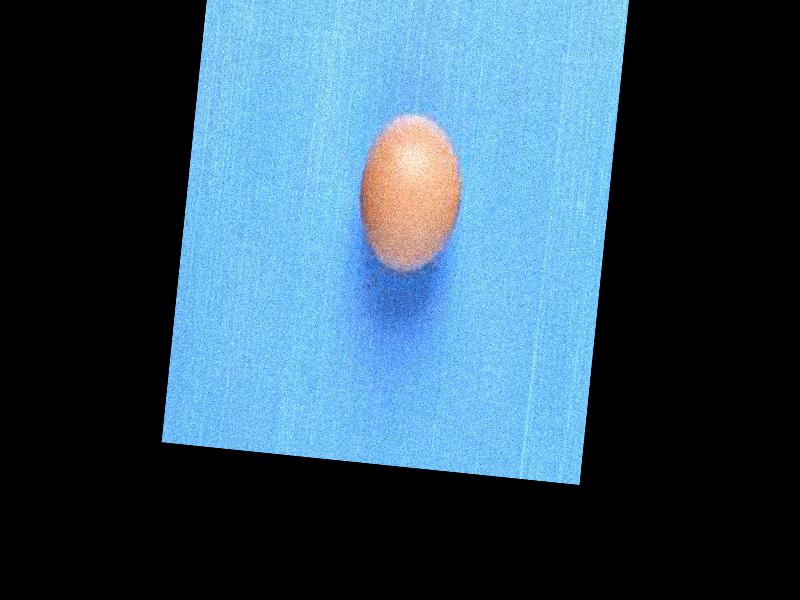Eggs: (353, 107, 468, 281)
